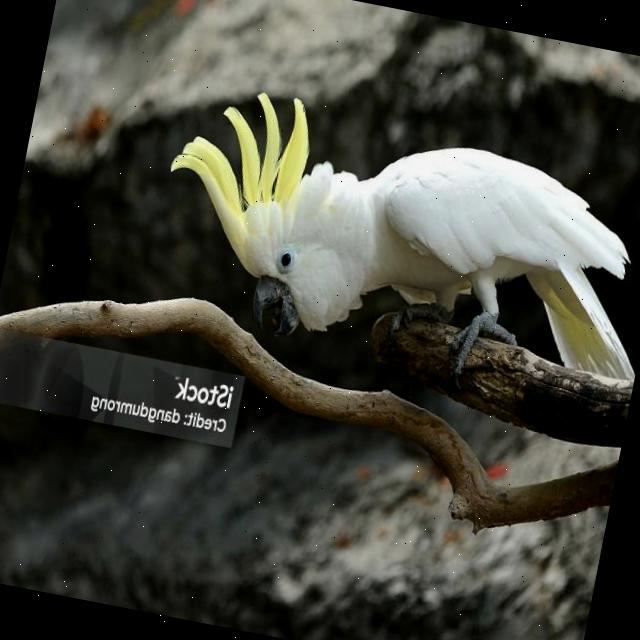Kakatua Putih: (119, 58, 640, 448)
